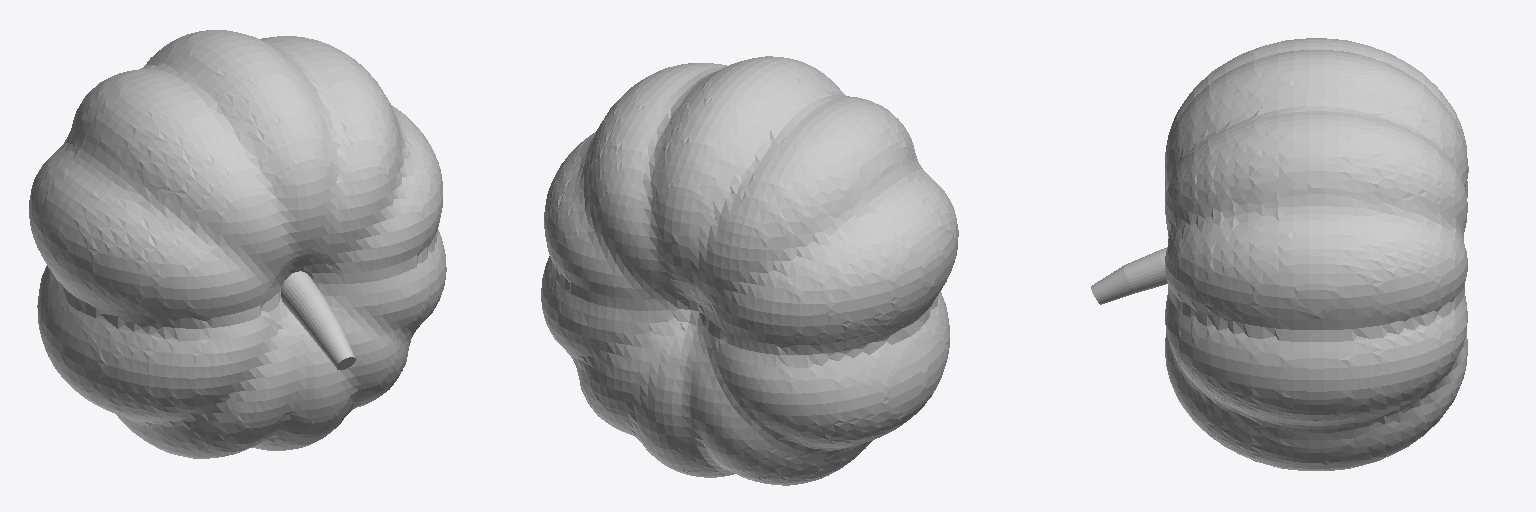
The model's file is pumpkin.obj.
3 renders of one model, left to right at view 1: azimuth 30°, elevation 25°; view 2: azimuth 150°, elevation 25°; view 3: azimuth 270°, elevation 25°, orthographic.
Visible parts, largest first — view 1: pumpkin; view 2: pumpkin; view 3: pumpkin.
Boxes of the visible parts, x1,y1,x2,y2 form: pumpkin: [29, 30, 446, 458]; pumpkin: [541, 56, 958, 485]; pumpkin: [1091, 38, 1468, 470].
Size of the model in its own units: 2.23 by 2.3 by 1.98.